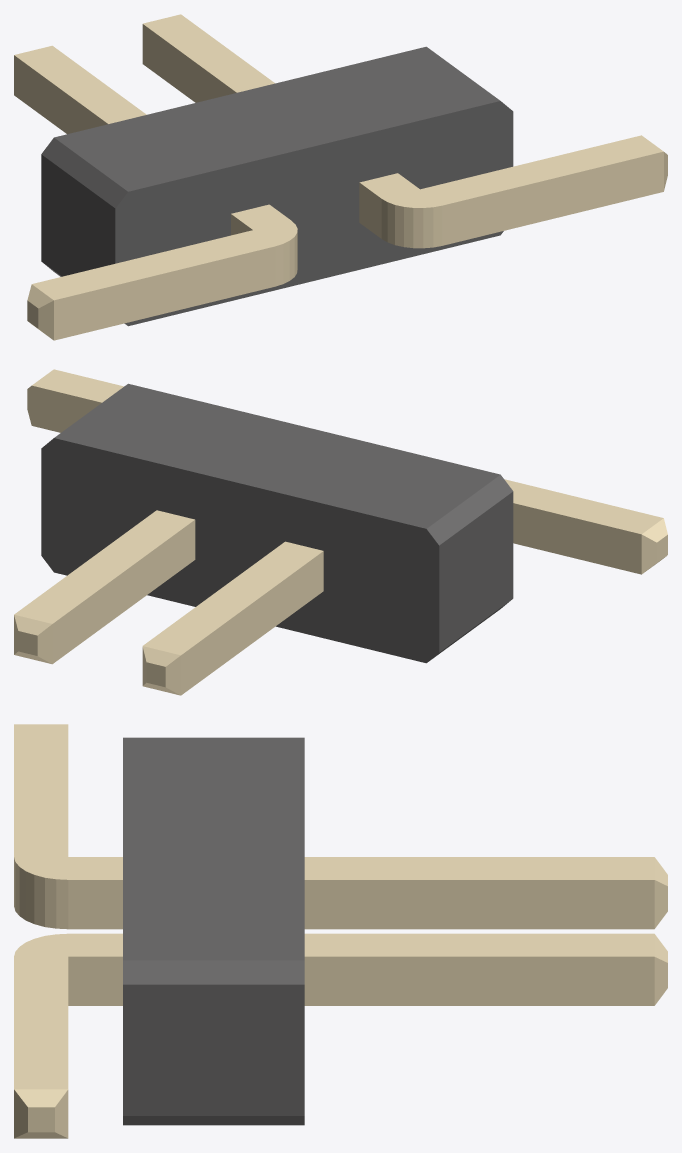
File: PinHeader_2x01_P1.00mm_Vertical_SMD.glb
3 renders of one model, top to bottom at view 1: azimuth 30°, elevation 25°; view 2: azimuth 150°, elevation 25°; view 3: azimuth 270°, elevation 25°, orthographic. The views are drawn at different scales.
Visible parts, largest first — view 1: Shape_IndexedFaceSet.003, Shape_IndexedFaceSet.001, Shape_IndexedFaceSet.029, Shape_IndexedFaceSet.034, Shape_IndexedFaceSet.007, Shape_IndexedFaceSet.012, Shape_IndexedFaceSet.014, Shape_IndexedFaceSet.022, Shape_IndexedFaceSet.020, Shape_IndexedFaceSet.019, Shape_IndexedFaceSet.025, Shape_IndexedFaceSet.028 (+4 smaller); view 2: Shape_IndexedFaceSet.004, Shape_IndexedFaceSet.001, Shape_IndexedFaceSet.007, Shape_IndexedFaceSet.019, Shape_IndexedFaceSet.025, Shape_IndexedFaceSet.020, Shape_IndexedFaceSet.022, Shape_IndexedFaceSet.032, Shape_IndexedFaceSet.014, Shape_IndexedFaceSet.027, Shape_IndexedFaceSet.005, Shape_IndexedFaceSet.012 (+3 smaller); view 3: Shape_IndexedFaceSet.001, Shape_IndexedFaceSet.002, Shape_IndexedFaceSet.021, Shape_IndexedFaceSet.023, Shape_IndexedFaceSet.012, Shape_IndexedFaceSet.014, Shape_IndexedFaceSet.020, Shape_IndexedFaceSet.022, Shape_IndexedFaceSet, Shape_IndexedFaceSet.033, Shape_IndexedFaceSet.013, Shape_IndexedFaceSet.015 (+3 smaller).
Part boxes in pixels (left/top/right/bottom): Shape_IndexedFaceSet.003: left=115, top=101, right=513, bottom=326; Shape_IndexedFaceSet.001: left=54, top=46, right=500, bottom=191; Shape_IndexedFaceSet.029: left=442, top=151, right=663, bottom=245; Shape_IndexedFaceSet.034: left=54, top=246, right=275, bottom=340; Shape_IndexedFaceSet.007: left=41, top=154, right=115, bottom=276; Shape_IndexedFaceSet.012: left=359, top=135, right=663, bottom=207; Shape_IndexedFaceSet.014: left=32, top=204, right=297, bottom=300; Shape_IndexedFaceSet.022: left=14, top=45, right=146, bottom=123; Shape_IndexedFaceSet.020: left=143, top=14, right=274, bottom=92; Shape_IndexedFaceSet.019: left=142, top=24, right=236, bottom=102; Shape_IndexedFaceSet.025: left=14, top=55, right=107, bottom=134; Shape_IndexedFaceSet.028: left=381, top=199, right=442, bottom=248; Shape_IndexedFaceSet.004: left=41, top=438, right=439, bottom=663; Shape_IndexedFaceSet.001: left=54, top=383, right=500, bottom=528; Shape_IndexedFaceSet.007: left=439, top=492, right=513, bottom=652; Shape_IndexedFaceSet.019: left=52, top=520, right=195, bottom=663; Shape_IndexedFaceSet.025: left=181, top=551, right=323, bottom=695; Shape_IndexedFaceSet.020: left=14, top=510, right=194, bottom=623; Shape_IndexedFaceSet.022: left=143, top=541, right=322, bottom=655; Shape_IndexedFaceSet.032: left=513, top=503, right=641, bottom=574; Shape_IndexedFaceSet.014: left=504, top=479, right=663, bottom=534; Shape_IndexedFaceSet.027: left=31, top=385, right=101, bottom=432; Shape_IndexedFaceSet.005: left=427, top=474, right=513, bottom=545; Shape_IndexedFaceSet.012: left=32, top=369, right=123, bottom=402; Shape_IndexedFaceSet.001: left=123, top=737, right=304, bottom=960; Shape_IndexedFaceSet.002: left=123, top=984, right=304, bottom=1115; Shape_IndexedFaceSet.021: left=304, top=956, right=654, bottom=1005; Shape_IndexedFaceSet.023: left=304, top=880, right=654, bottom=929; Shape_IndexedFaceSet.012: left=14, top=933, right=122, bottom=1089; Shape_IndexedFaceSet.014: left=14, top=724, right=122, bottom=879; Shape_IndexedFaceSet.020: left=304, top=933, right=654, bottom=956; Shape_IndexedFaceSet.022: left=304, top=857, right=654, bottom=879; Shape_IndexedFaceSet: left=123, top=960, right=304, bottom=984; Shape_IndexedFaceSet.033: left=14, top=857, right=68, bottom=929; Shape_IndexedFaceSet.013: left=68, top=956, right=122, bottom=1005; Shape_IndexedFaceSet.015: left=68, top=880, right=122, bottom=929.
Bounding box in the file's own units: 1.93 × 0.394 × 1.42.
